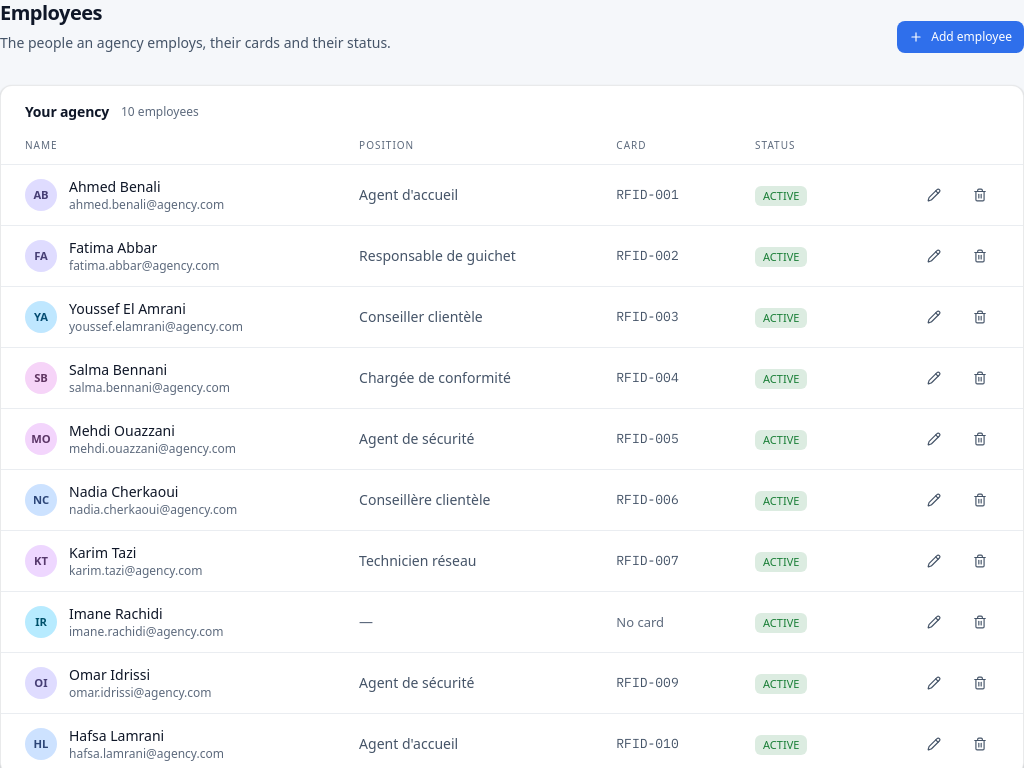
Employees › will not submit without the two required names
The width and height of the screenshot is (1024, 768).
Click the button "Add employee" at (961, 37), box [897,21,1023,53]
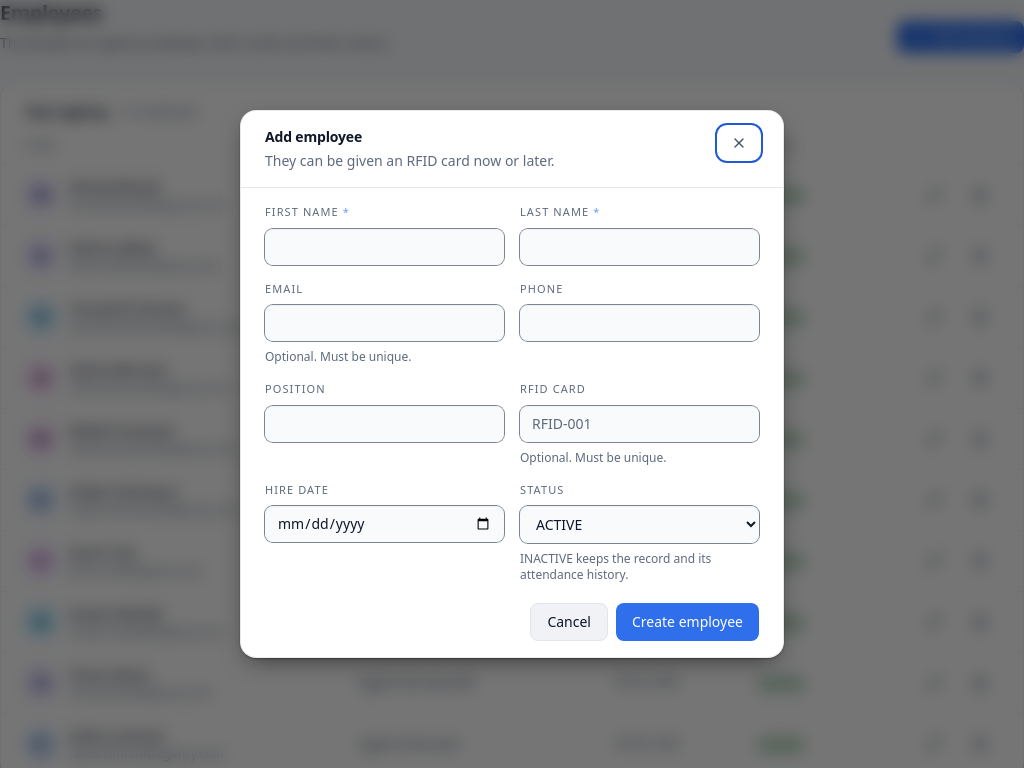
Click the button "Create employee" at (688, 622), box [616,603,759,641]
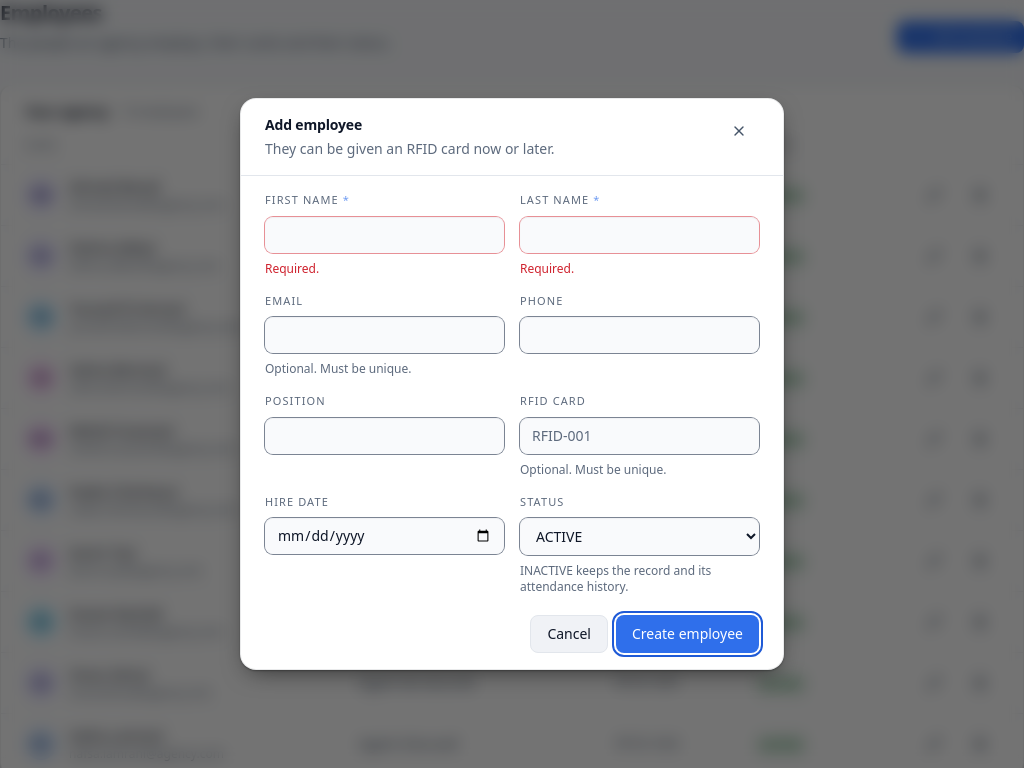
Expected: the text "Required." is shown 2 times, [265,260,319,276]; [520,260,574,276]
